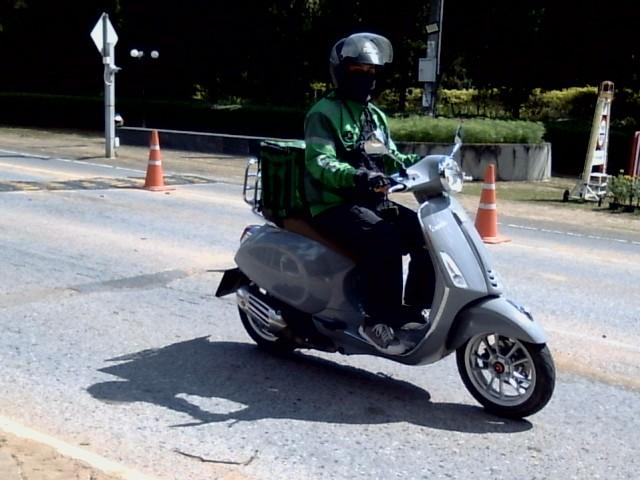helmet: (328, 27, 392, 103)
motor: (216, 130, 554, 417)
person: (304, 32, 434, 353)
